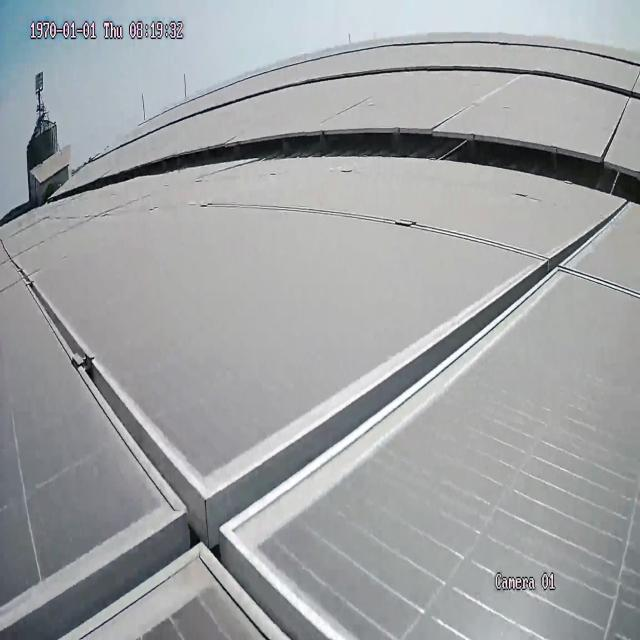interior panel: (4, 207, 621, 640)
outher panel: (63, 123, 635, 204)
